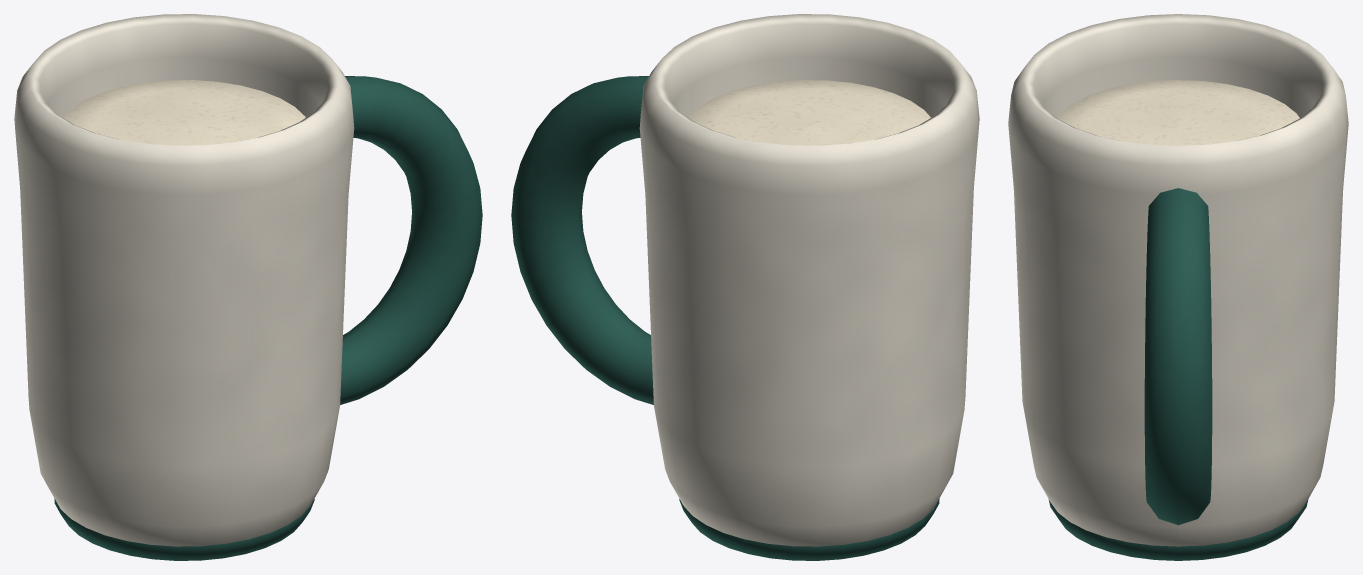
Rendered from mug.glb.
3 views of the same model, side by side, from view 1: azimuth 30°, elevation 25°; view 2: azimuth 150°, elevation 25°; view 3: azimuth 270°, elevation 25° (orthographic).
Parts seen in each view (by area): view 1: Body, Handle, Foam, Foot; view 2: Body, Handle, Foam, Foot; view 3: Body, Handle, Foam, Foot.
Boxes of the visible parts, x1,y1,x2,y2 form: Body: [14, 14, 354, 546]; Handle: [340, 76, 482, 404]; Foam: [63, 80, 305, 145]; Foot: [54, 498, 314, 560]; Body: [639, 14, 979, 546]; Handle: [511, 76, 653, 404]; Foam: [688, 80, 930, 145]; Foot: [679, 498, 939, 560]; Body: [1008, 14, 1348, 546]; Handle: [1144, 188, 1212, 525]; Foam: [1057, 80, 1299, 145]; Foot: [1048, 499, 1308, 560].
Size of the model in its own units: 0.1795 by 0.168 by 0.12.
3 materials, 3 textured.
